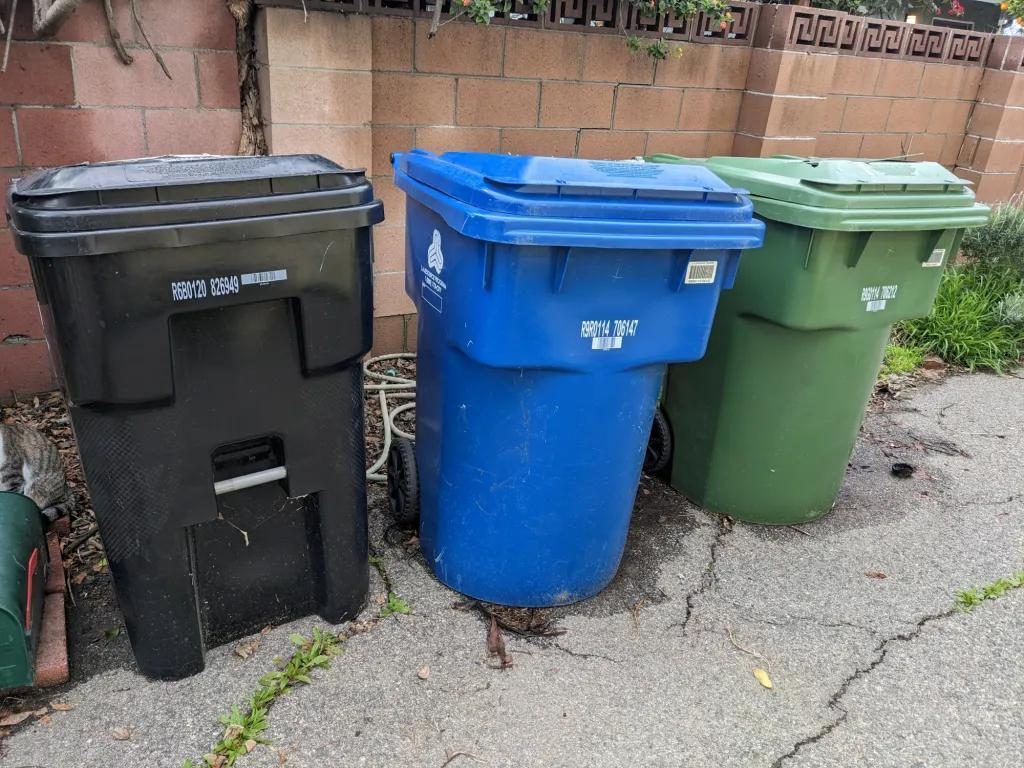trash bin: (3, 148, 388, 687), (383, 140, 773, 632), (640, 145, 997, 551)
